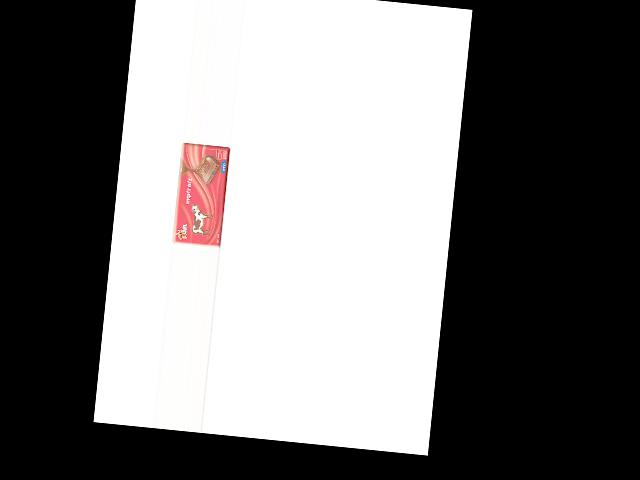chocolate: (171, 141, 230, 249)
